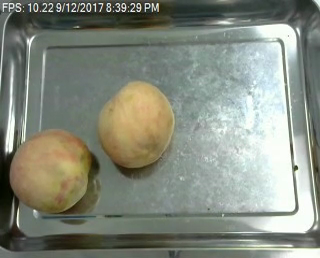Peach: (8, 128, 93, 214), (97, 79, 174, 167)
